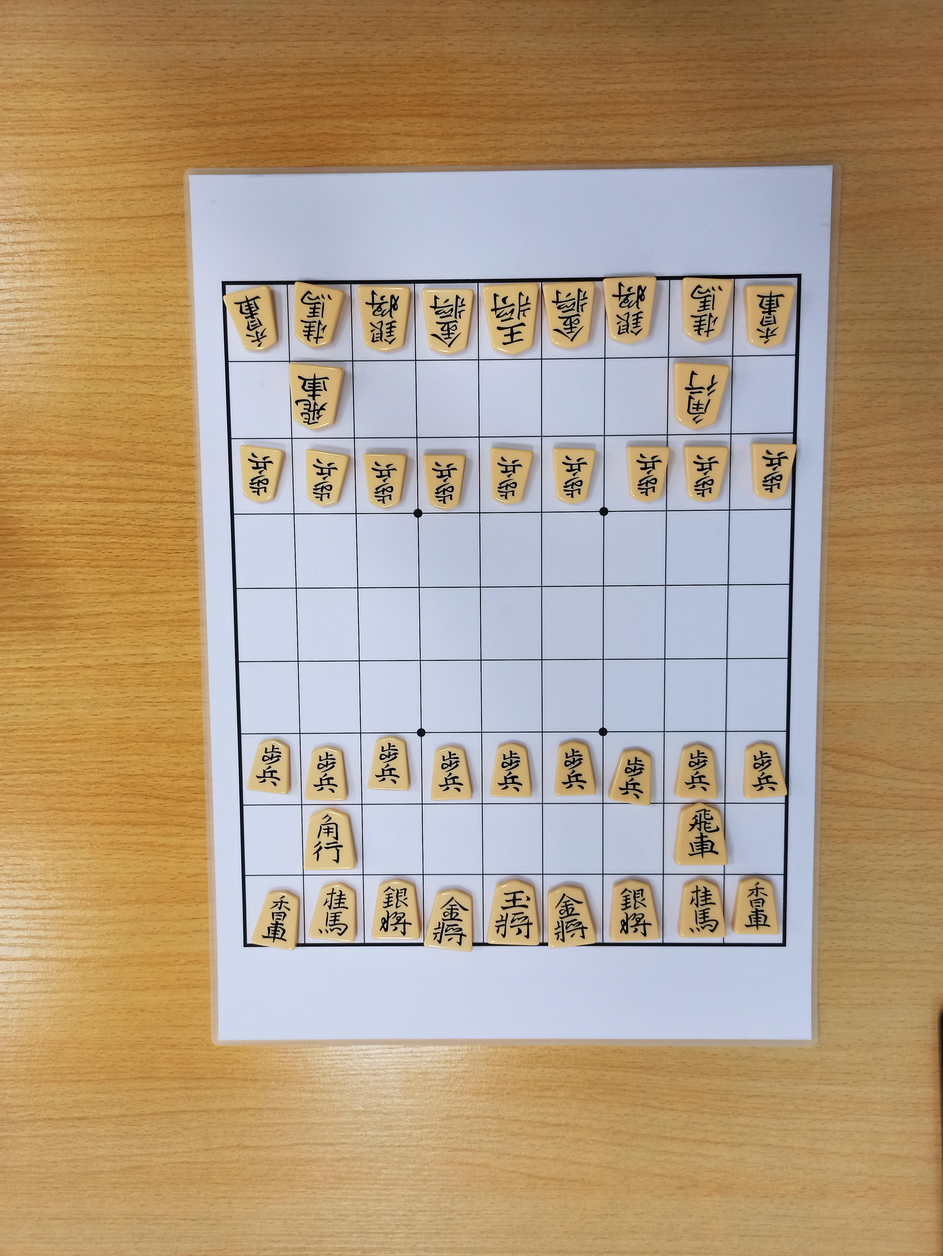board: (223, 275, 798, 944)
